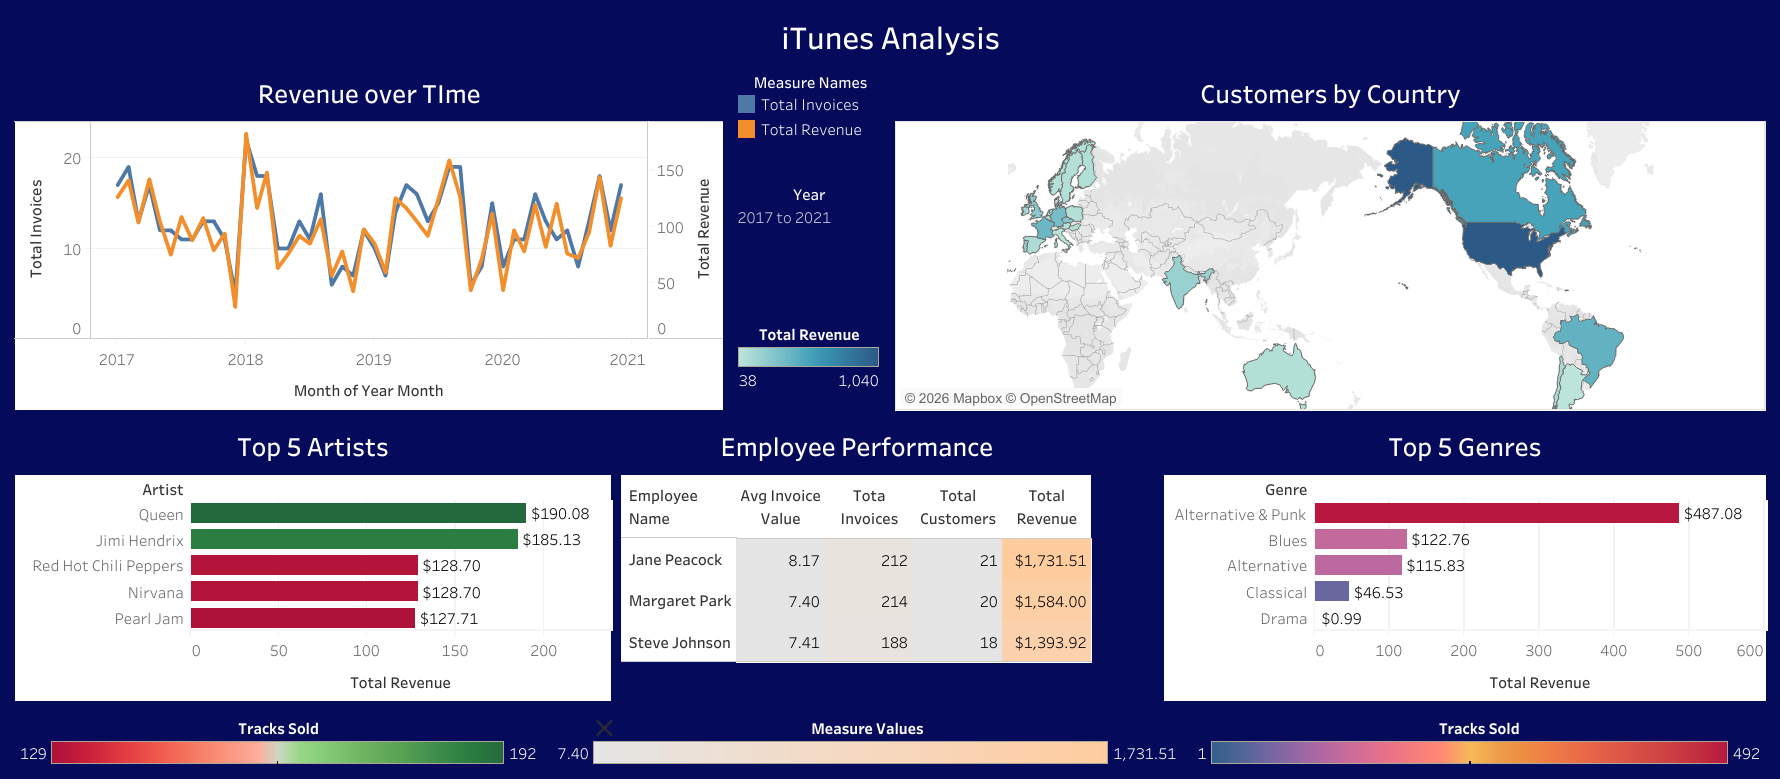

The dashboard page shown, as its layout file describes it:
{"tool":"tableau","page":{"name":"iTunes_Analysis","canvas":[1000,1000],"units":"permille","ordinal":0},"visuals":[{"type":"title","box":[4.8,10,990.3,61.2]},{"type":"worksheet","title":"Revenue","mark":"Automatic","rows":["total_invoices","total_revenue"],"cols":["year_month"],"box":[4.8,71.2,404.1,459.4]},{"type":"legend","title":"Revenue","param":"[federated.1ywxg2r17byuaj1b60s0e1bmkwuy].[:Measure Names]","box":[408.9,71.2,91,147.5]},{"type":"worksheet","title":"Customer_Map","mark":"Automatic","box":[499.9,71.2,495.2,459.4]},{"type":"filter","title":"Revenue","param":"[federated.1ywxg2r17byuaj1b60s0e1bmkwuy].[none:year:qk]","box":[408.9,218.6,91,176.8]},{"type":"legend","title":"Customer_Map","param":"[federated.02bcic81nrhiwx1469rwn0v8hxhh].[sum:total_revenue:qk]","box":[408.9,395.4,91,135.2]},{"type":"worksheet","title":"Top_Artists","mark":"Automatic","rows":["artist"],"cols":["total_revenue"],"box":[4.8,530.6,340.6,377]},{"type":"worksheet","title":"Employee_Performance","mark":"Square","rows":["employee_name"],"box":[345.5,530.6,305.2,377]},{"type":"worksheet","title":"Top_Genres","mark":"Automatic","rows":["genre"],"cols":["total_revenue"],"box":[650.7,530.6,344.5,377]},{"type":"legend","title":"Top_Artists","param":"[federated.1x7jwzu1f3hw2h1gzh6g90fpzjyn].[sum:tracks_sold:qk]","box":[4.8,907.6,302.3,82.4]},{"type":"legend","title":"Employee_Performance","param":"[federated.0zx4ypa0covloi0ziuvir0bdbwif].[Multiple Values]","box":[307.2,907.6,359.4,82.4]},{"type":"legend","title":"Top_Genres","param":"[federated.0vrp9gw0nb3qhu18l1zld0y70nha].[sum:tracks_sold:qk]","box":[666.6,907.6,328.6,82.4]},{"type":"dashboard-object","box":[332.5,918.9,14.5,30]}]}

Visuals, with their boxes on the dashboard's canvas, which has no fixed pixel size, in thousandths of its width and height (x1, y1, x2, y2). These are canvas units, not pixel positions in the 1780x779 screenshot, which may show the page scaled, cropped or inside an application window:
title: <region>5, 10, 995, 71</region>
"Revenue" worksheet: <region>5, 71, 409, 531</region>
"Revenue" legend: <region>409, 71, 500, 219</region>
"Customer_Map" worksheet: <region>500, 71, 995, 531</region>
"Revenue" filter: <region>409, 219, 500, 395</region>
"Customer_Map" legend: <region>409, 395, 500, 531</region>
"Top_Artists" worksheet: <region>5, 531, 345, 908</region>
"Employee_Performance" worksheet (Square marks): <region>346, 531, 651, 908</region>
"Top_Genres" worksheet: <region>651, 531, 995, 908</region>
"Top_Artists" legend: <region>5, 908, 307, 990</region>
"Employee_Performance" legend: <region>307, 908, 667, 990</region>
"Top_Genres" legend: <region>667, 908, 995, 990</region>
dashboard-object: <region>332, 919, 347, 949</region>
